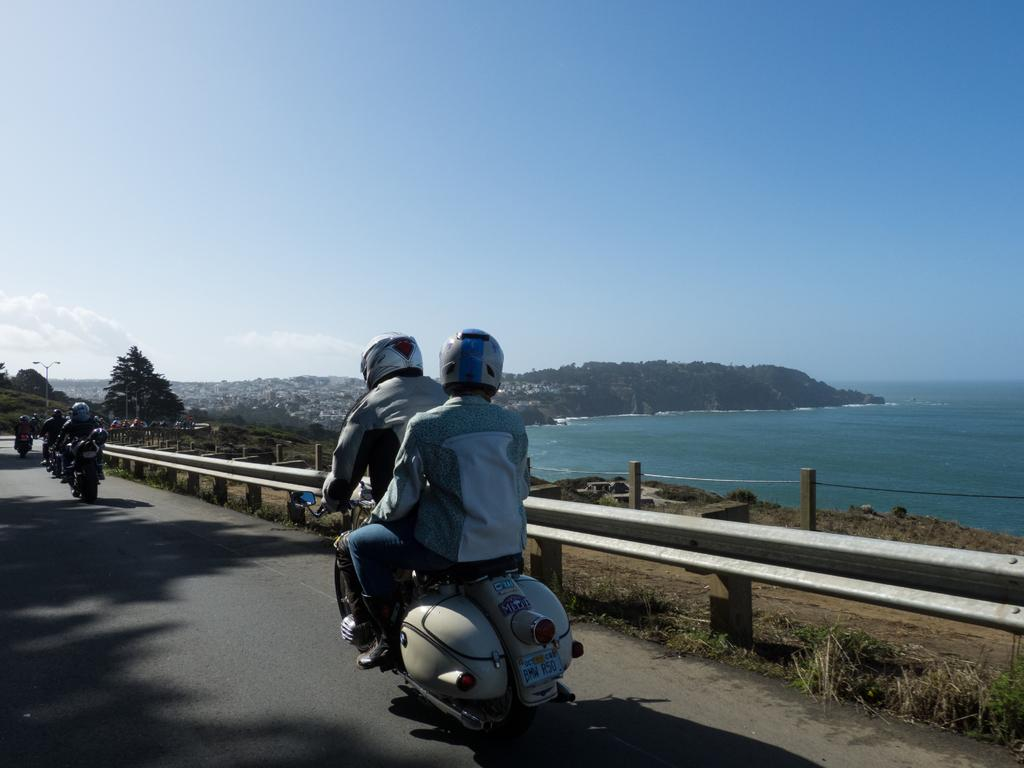helmet: (439, 328, 505, 400), (360, 331, 424, 394), (71, 401, 90, 418)
